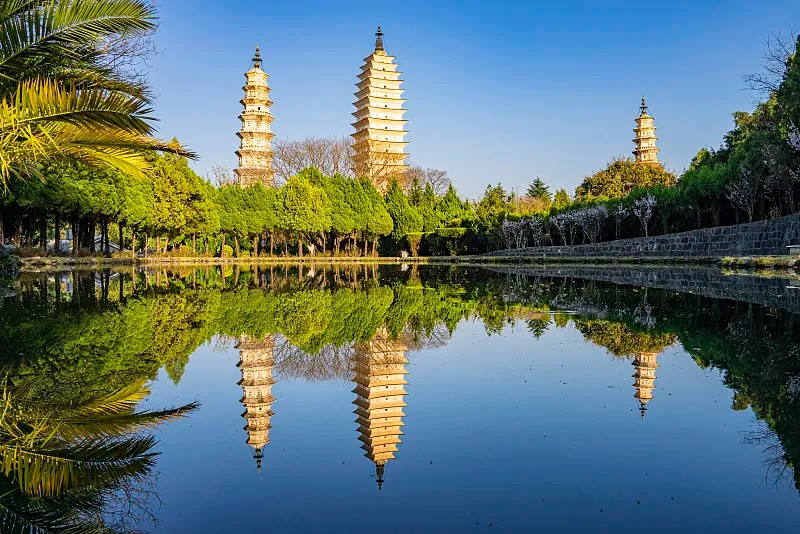ThreePagoda: (349, 28, 409, 189)
